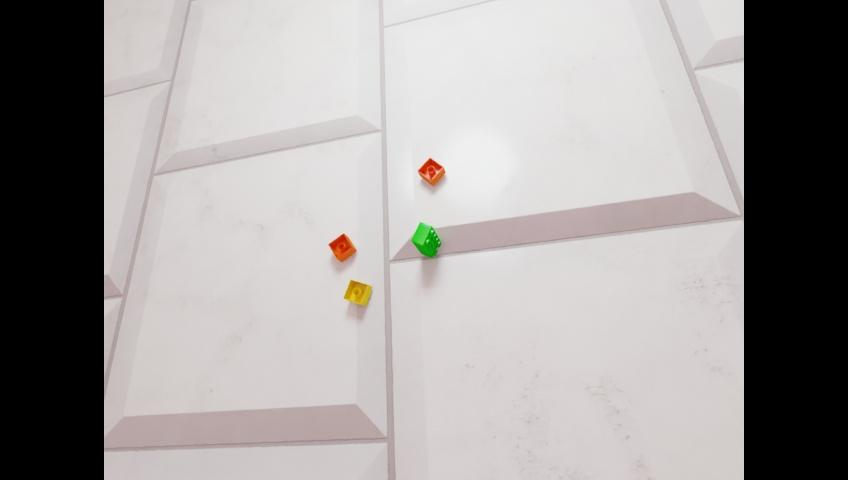2x2_orange: (327, 233, 356, 263), (418, 158, 446, 187)
2x2_yellow: (344, 280, 372, 308)
4x2_green: (412, 223, 441, 259)
